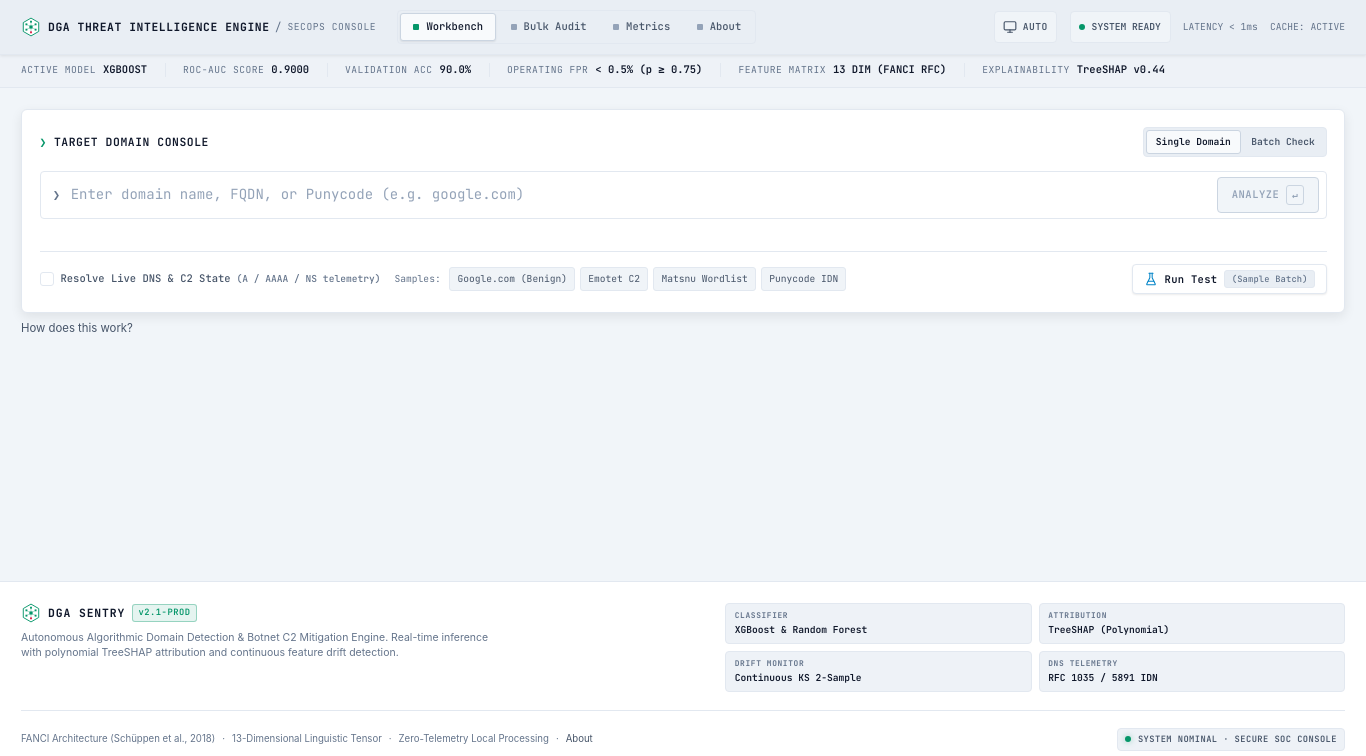
Test: About page › selecting About shows the page with one h1 and marks the tab current
Click the button with id "about-nav-tab" at (719, 27), box [684,14,753,40]
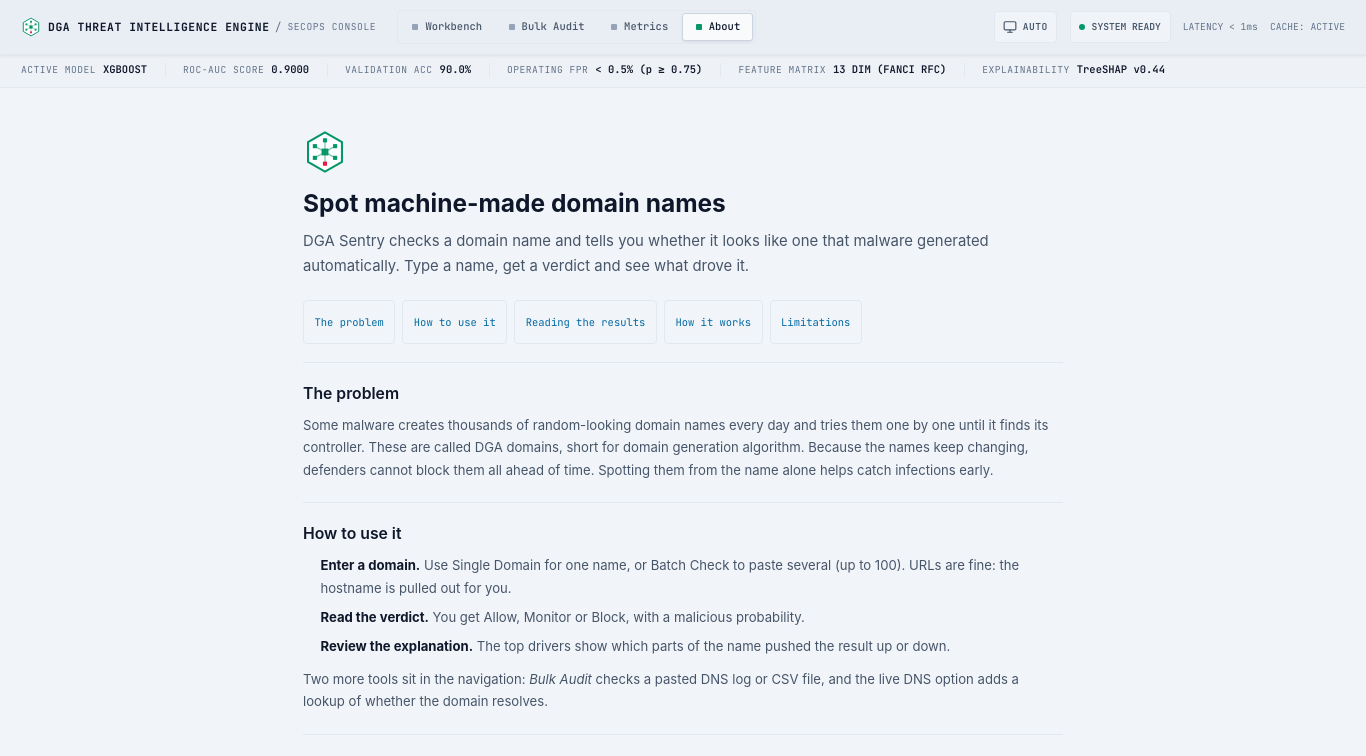
Now the heading "Spot machine-made domain names" is shown, box [303,188,726,218]
